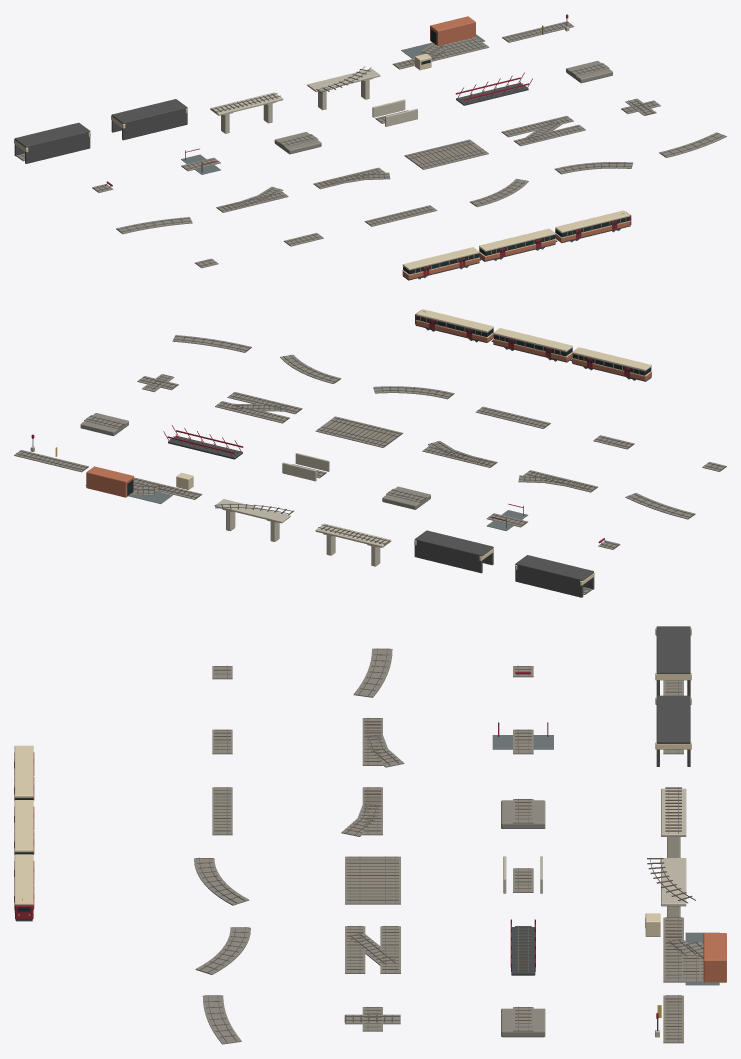
File: regional_train_and_track_tiles_v1.glb
3 renders of one model, top to bottom at view 1: azimuth 30°, elevation 25°; view 2: azimuth 150°, elevation 25°; view 3: azimuth 270°, elevation 25°, orthographic. The views are drawn at different scales.
Visible parts, largest first — view 1: TRACK_DOUBLE_STRAIGHT_16_P00_LOD0_BALLAST_00, TUNNEL_WALL_L_LOD0, TUNNEL_WALL_L_LOD0.001, RL_IH_DEPOT_SHED_LOD0, TUNNEL_ROOF_LOD0.001, TUNNEL_ROOF_LOD0, VIADUCT_DECK_LOD0.001, VIADUCT_DECK_LOD0, TRAIN_LOD0_CAR02_ROOF, TRAIN_LOD0_CAR01_ROOF, TRAIN_LOD0_CAR00_ROOF, TRACK_RL_IH_DEPOT_SERVICE_24_P00_LOD0_BALLAST_00 (+8 smaller); view 2: TRACK_DOUBLE_STRAIGHT_16_P00_LOD0_BALLAST_00, TUNNEL_WALL_R_LOD0.001, TUNNEL_WALL_R_LOD0, RL_IH_DEPOT_SHED_LOD0, TUNNEL_ROOF_LOD0.001, TUNNEL_ROOF_LOD0, VIADUCT_DECK_LOD0.001, VIADUCT_DECK_LOD0, TRAIN_LOD0_CAR01_ROOF, TRAIN_LOD0_CAR02_ROOF, TRAIN_LOD0_CAR00_ROOF, BRIDGE_DECK_LOD0 (+6 smaller); view 3: TRACK_DOUBLE_STRAIGHT_16_P00_LOD0_BALLAST_00, TUNNEL_ROOF_LOD0, TUNNEL_ROOF_LOD0.001, RL_IH_DEPOT_SHED_LOD0, VIADUCT_DECK_LOD0.001, TRACK_RL_IH_DEPOT_SERVICE_24_P00_LOD0_BALLAST_00, VIADUCT_DECK_LOD0, TRAIN_LOD0_CAR02_ROOF, TRAIN_LOD0_CAR01_ROOF, TRAIN_LOD0_CAR00_ROOF, BRIDGE_DECK_LOD0, TRACK_STATION_STOP_DWELL_16_P00_LOD0_BALLAST_00 (+7 smaller).
Part boxes in pixels (x1,y1,x2,y2): TRACK_DOUBLE_STRAIGHT_16_P00_LOD0_BALLAST_00: [404, 139, 488, 169]; TUNNEL_WALL_L_LOD0: [25, 133, 90, 163]; TUNNEL_WALL_L_LOD0.001: [122, 109, 187, 140]; RL_IH_DEPOT_SHED_LOD0: [430, 16, 475, 45]; TUNNEL_ROOF_LOD0.001: [111, 99, 187, 123]; TUNNEL_ROOF_LOD0: [14, 122, 90, 147]; VIADUCT_DECK_LOD0.001: [307, 68, 380, 91]; VIADUCT_DECK_LOD0: [210, 92, 283, 115]; TRAIN_LOD0_CAR02_ROOF: [402, 247, 479, 270]; TRAIN_LOD0_CAR01_ROOF: [479, 228, 555, 251]; TRAIN_LOD0_CAR00_ROOF: [555, 210, 630, 232]; TRACK_RL_IH_DEPOT_SERVICE_24_P00_LOD0_BALLAST_00: [392, 42, 489, 69]; TRACK_DOUBLE_STRAIGHT_16_P00_LOD0_BALLAST_00: [315, 416, 403, 447]; TUNNEL_WALL_R_LOD0.001: [414, 541, 482, 573]; TUNNEL_WALL_R_LOD0: [515, 566, 583, 597]; RL_IH_DEPOT_SHED_LOD0: [86, 466, 133, 497]; TUNNEL_ROOF_LOD0.001: [414, 530, 493, 556]; TUNNEL_ROOF_LOD0: [515, 555, 593, 580]; VIADUCT_DECK_LOD0.001: [215, 499, 290, 523]; VIADUCT_DECK_LOD0: [315, 523, 391, 547]; TRAIN_LOD0_CAR01_ROOF: [493, 328, 572, 351]; TRAIN_LOD0_CAR02_ROOF: [572, 347, 651, 371]; TRAIN_LOD0_CAR00_ROOF: [416, 309, 493, 332]; BRIDGE_DECK_LOD0: [168, 435, 242, 459]; TRACK_DOUBLE_STRAIGHT_16_P00_LOD0_BALLAST_00: [345, 856, 400, 904]; TUNNEL_ROOF_LOD0: [656, 626, 690, 674]; TUNNEL_ROOF_LOD0.001: [656, 695, 690, 743]; RL_IH_DEPOT_SHED_LOD0: [703, 933, 726, 982]; VIADUCT_DECK_LOD0.001: [661, 858, 686, 906]; TRACK_RL_IH_DEPOT_SERVICE_24_P00_LOD0_BALLAST_00: [663, 917, 683, 982]; VIADUCT_DECK_LOD0: [661, 788, 686, 836]; TRAIN_LOD0_CAR02_ROOF: [14, 745, 33, 797]; TRAIN_LOD0_CAR01_ROOF: [14, 800, 33, 852]; TRAIN_LOD0_CAR00_ROOF: [14, 854, 33, 905]; BRIDGE_DECK_LOD0: [511, 927, 535, 975]; TRACK_STATION_STOP_DWELL_16_P00_LOD0_BALLAST_00: [663, 995, 683, 1043].
Size of what is drawn, in the model's own units: 137 by 9.37 by 104.
